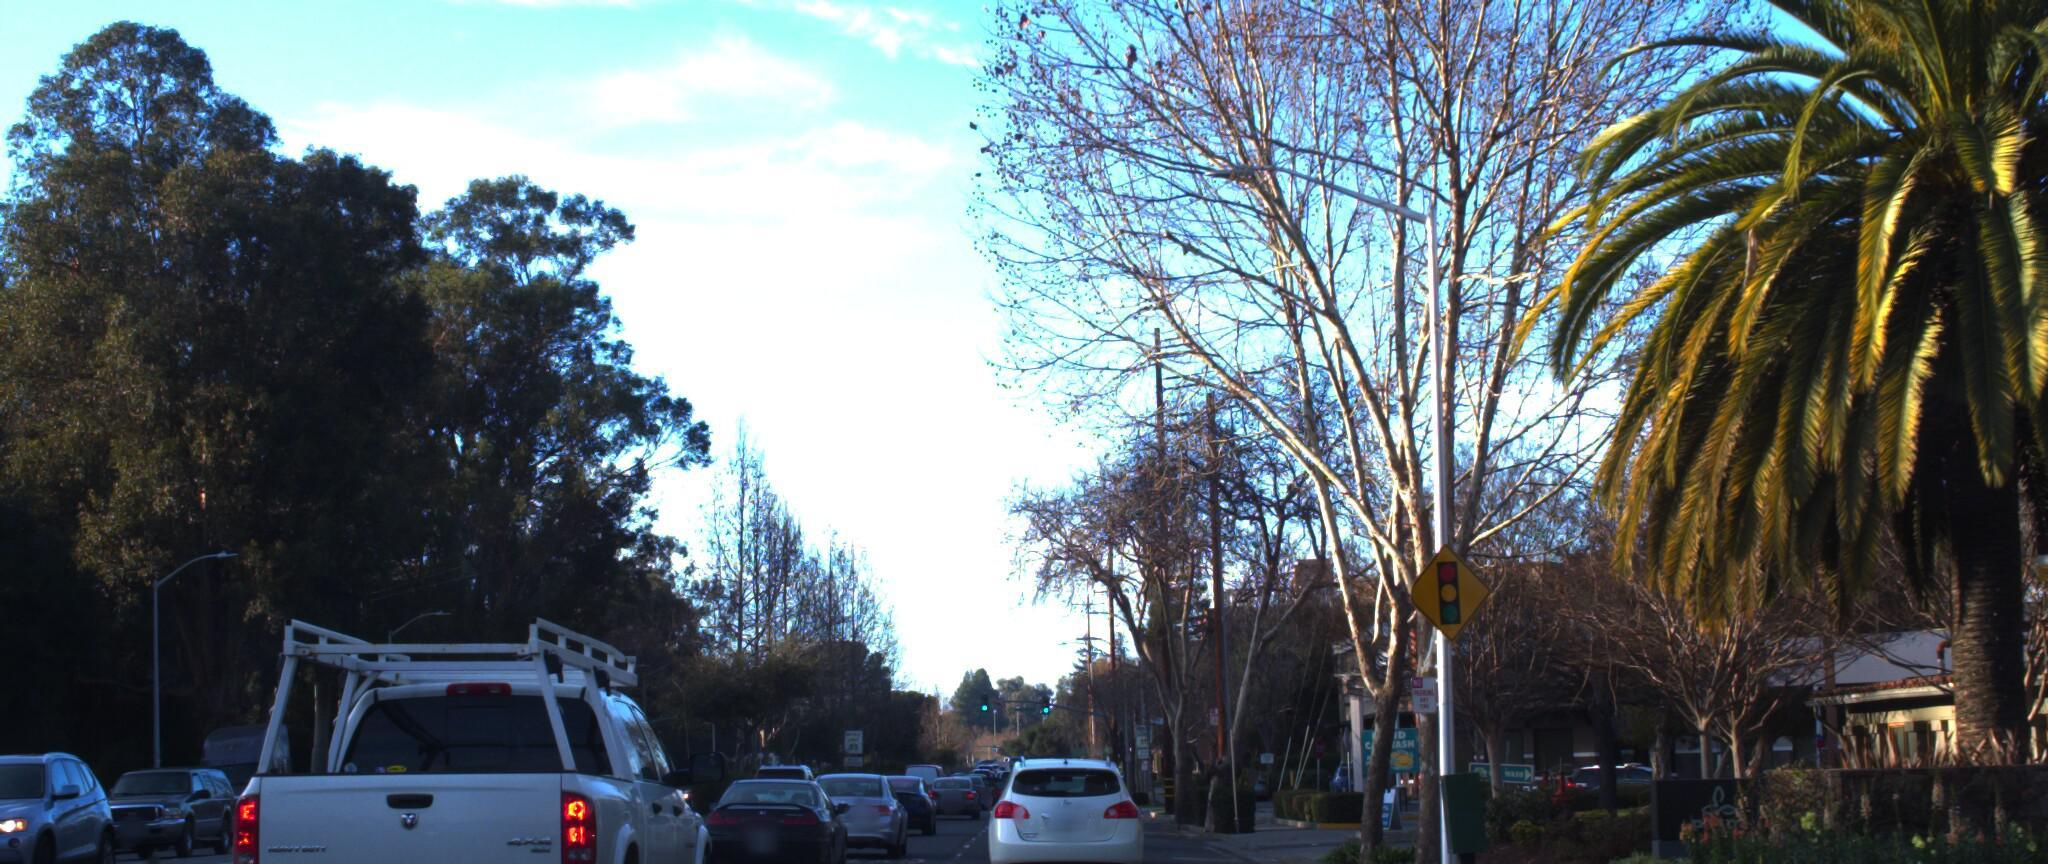car: (218, 604, 728, 864), (977, 736, 1147, 864), (0, 730, 128, 864), (690, 754, 842, 864), (80, 773, 242, 864), (788, 747, 901, 847)
